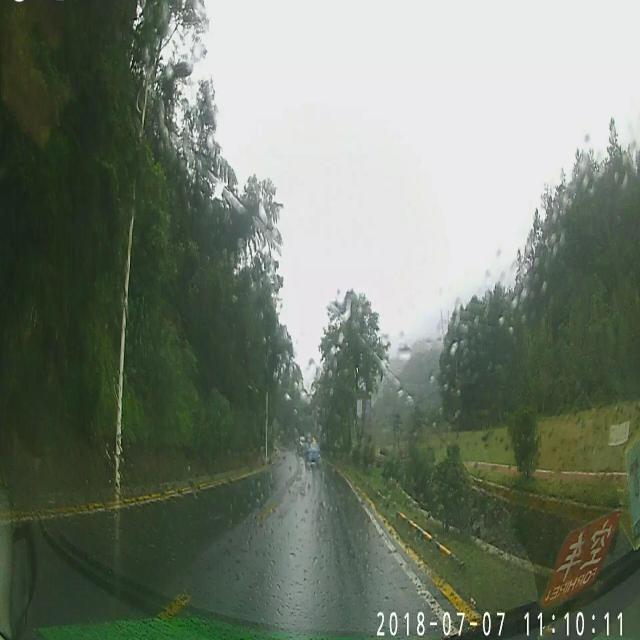car: (307, 442, 320, 466), (297, 435, 306, 455)
